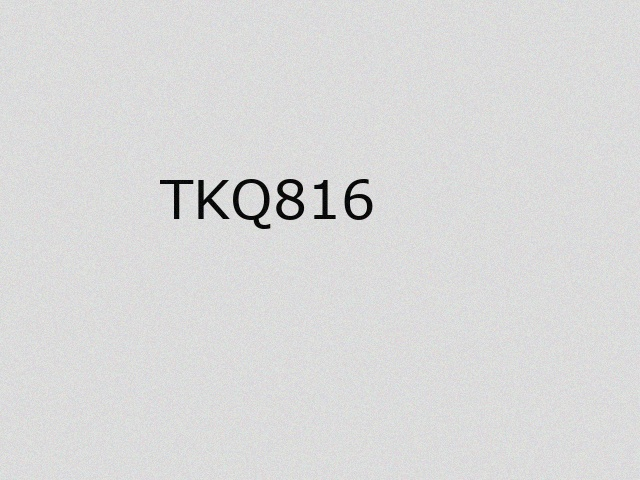OCR_AREA: (156, 175, 379, 233)
